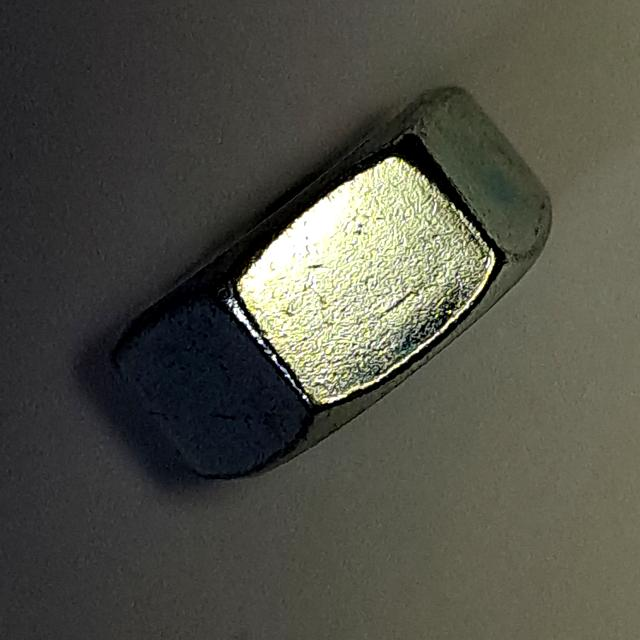Side_Excellent: (100, 68, 566, 492)
